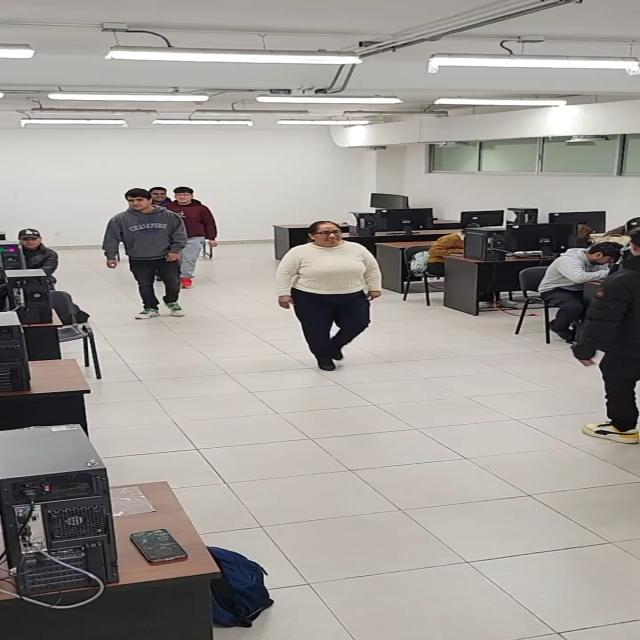Persona: (266, 214, 386, 375), (100, 185, 181, 325), (178, 180, 220, 291)
